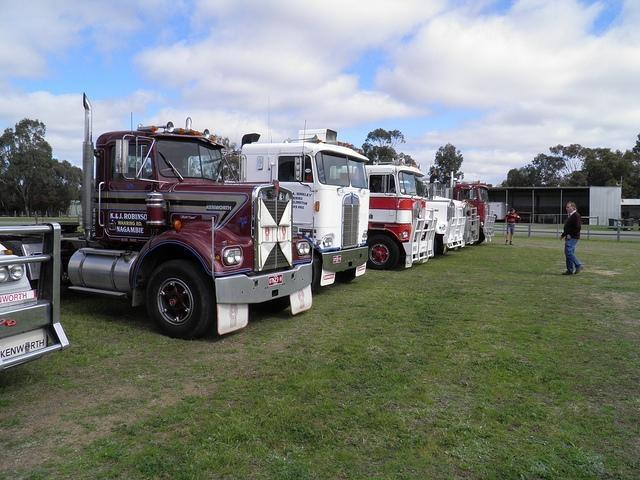truck: (17, 94, 318, 337), (237, 142, 371, 288), (0, 222, 68, 370), (368, 162, 436, 268), (454, 181, 496, 247), (426, 193, 466, 255)
